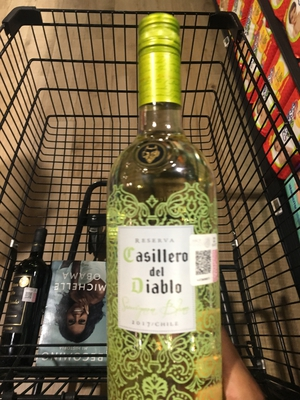casillero del diablo sauvignon blanc: (90, 29, 228, 400)
